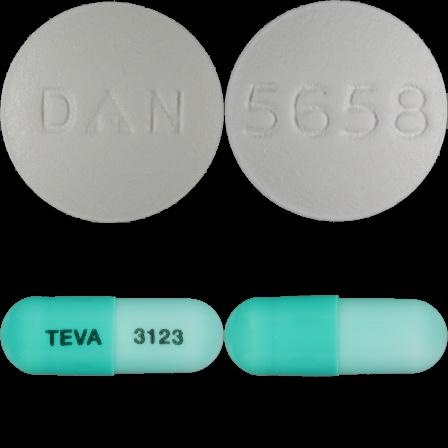0440-7350: (0, 0, 224, 224)
